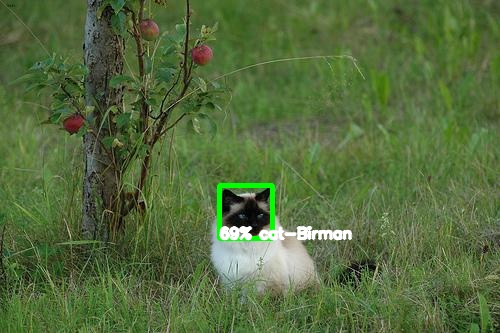cat-Birman: (220, 185, 273, 239)
